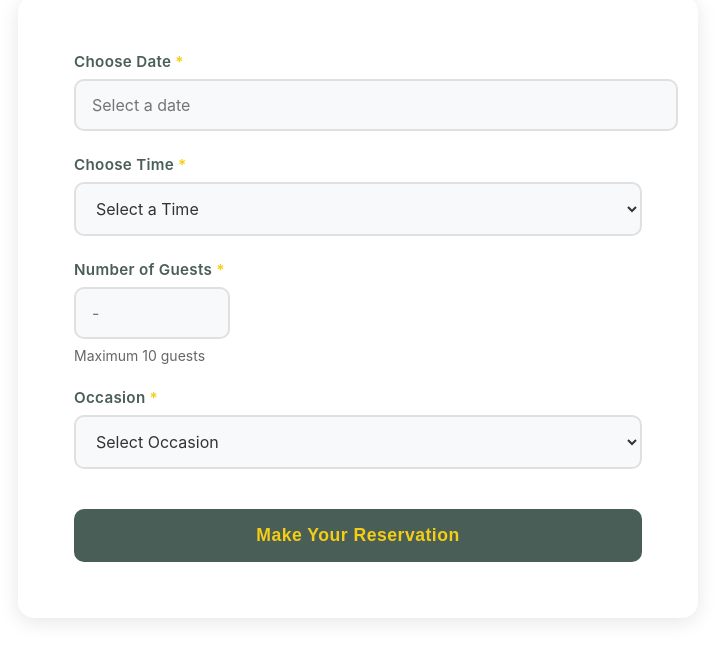
BookingForm Component › Form Validation › shows error when guests is less than minimum
This screenshot has width=717, height=670.
In the number field labelled "Number of Guests*": (152, 313) x1=74 y1=287 x2=230 y2=339, type "0"
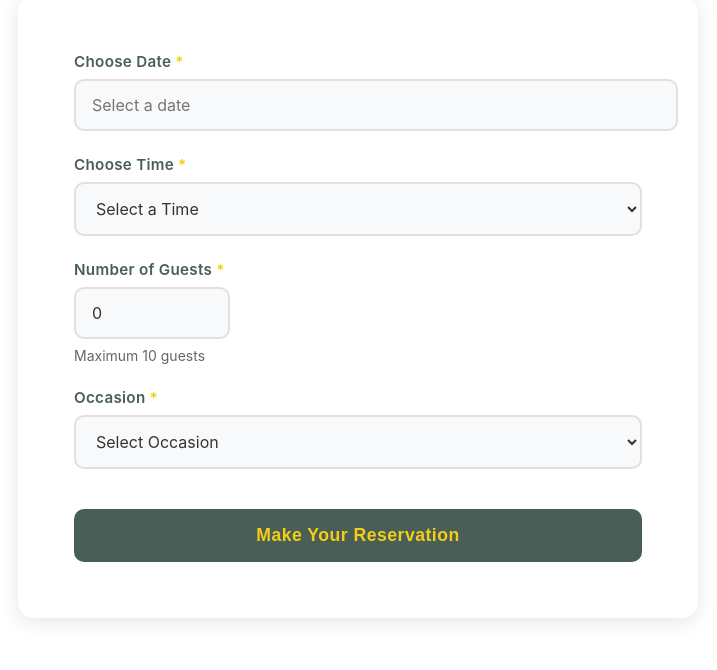
Leave the number field labelled "Number of Guests*", box x1=74 y1=287 x2=230 y2=339
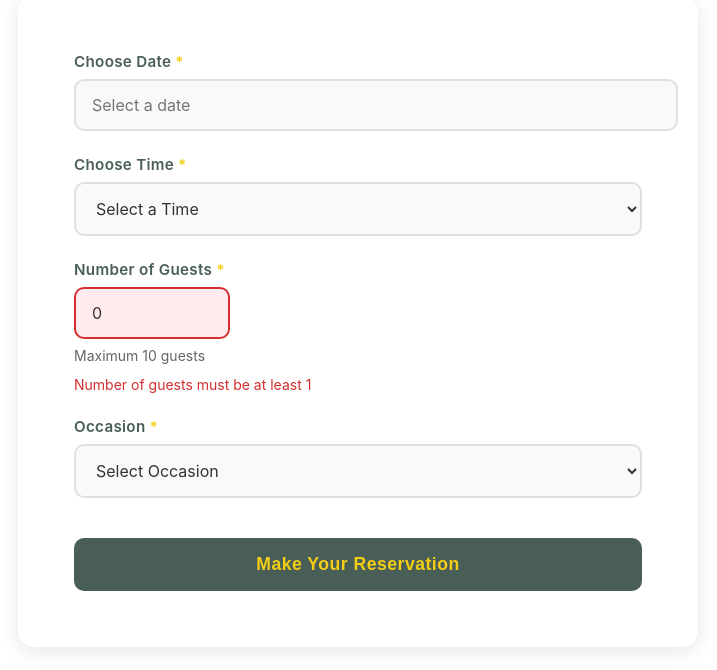
Expected: the text "Number of guests must be at least 1" is shown, x1=74 y1=376 x2=311 y2=393
